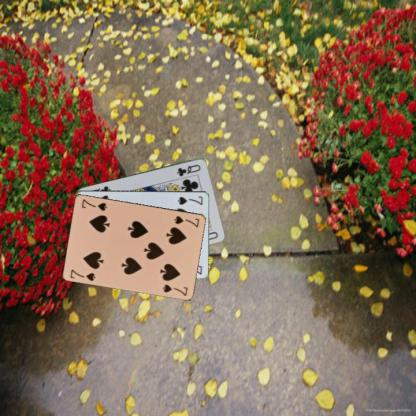7s: (68, 266, 97, 282), (172, 213, 200, 229), (175, 194, 204, 206)
Qc: (174, 162, 202, 177)
